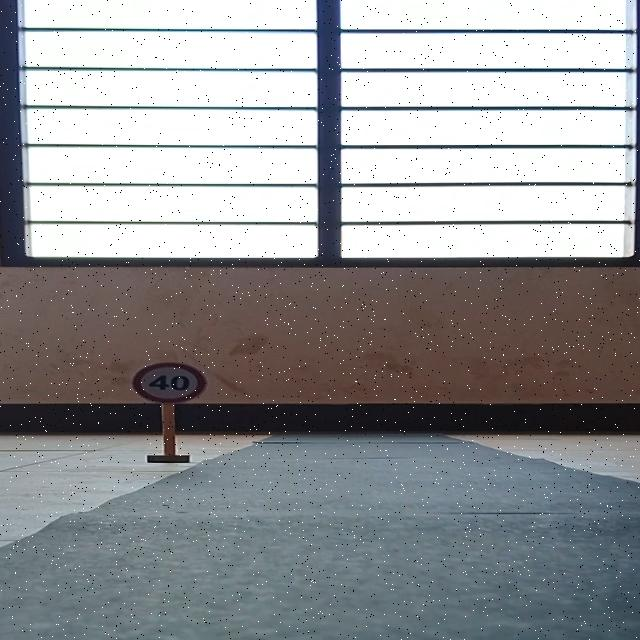Speed40: (128, 360, 210, 405)
